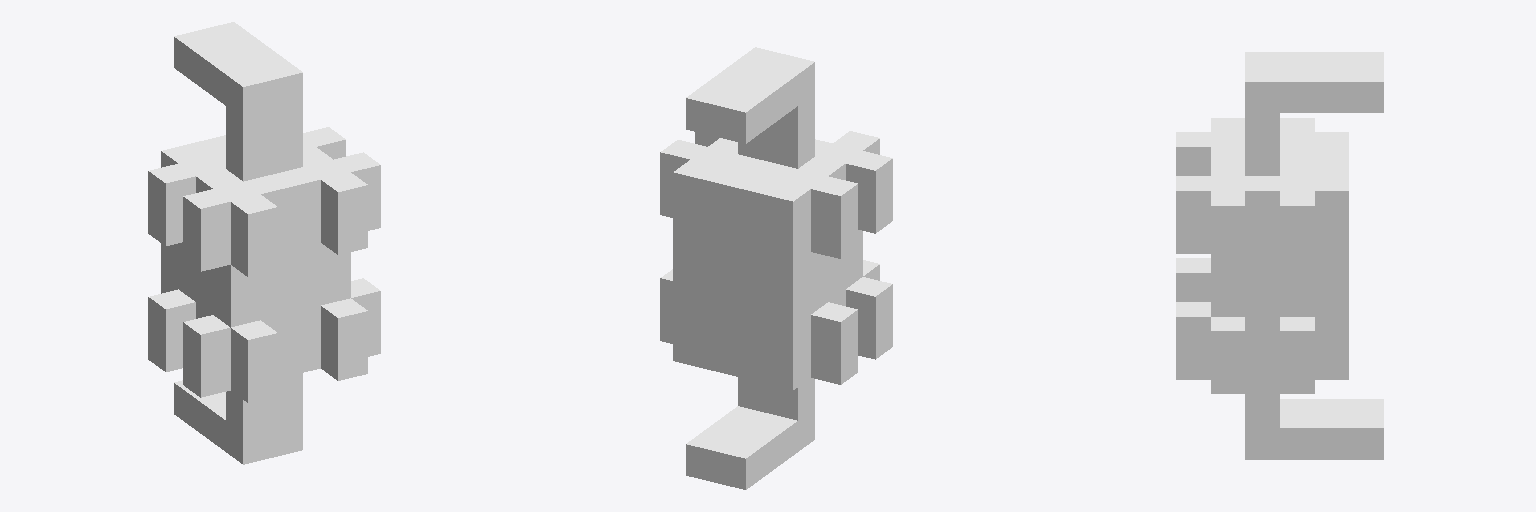
File: big_floors_lamp.obj
The picture shows the model from 3 angles: view 1: azimuth 30°, elevation 25°; view 2: azimuth 150°, elevation 25°; view 3: azimuth 270°, elevation 25°; orthographic projection.
Bounding box in the file's own units: 6 × 12 × 6.